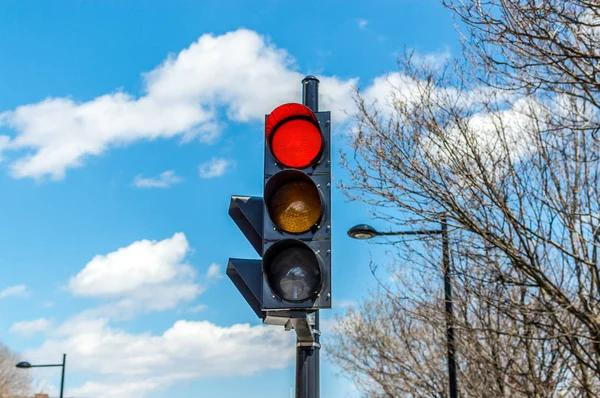red: (259, 106, 337, 306)
